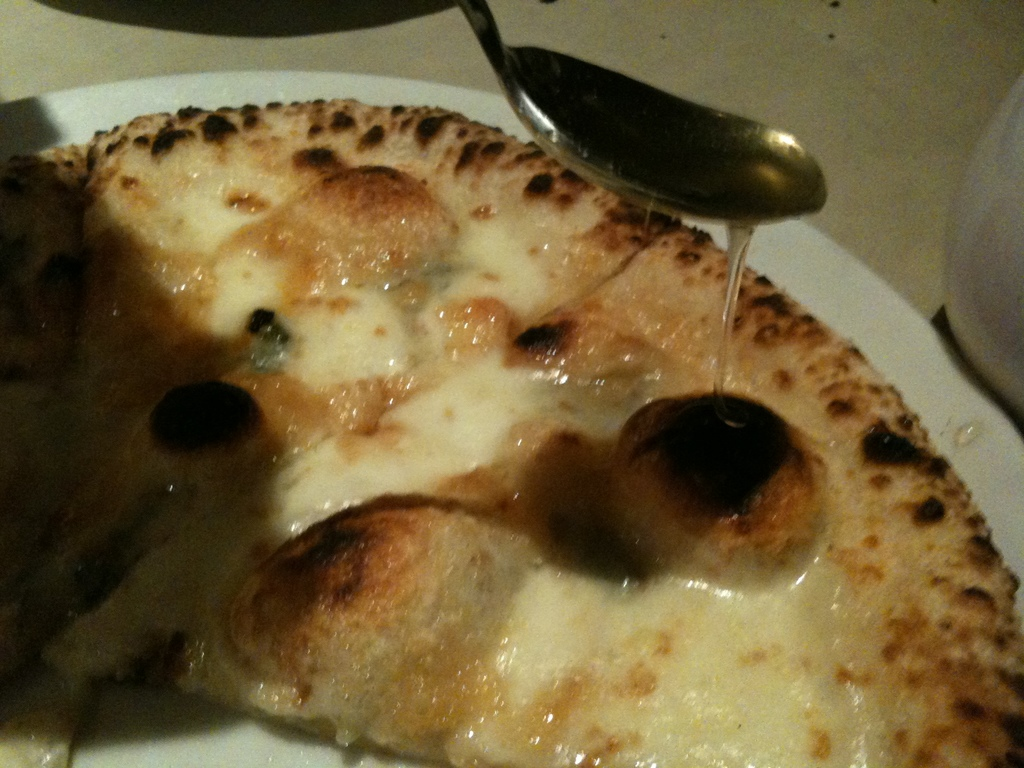pizza: (0, 96, 1023, 764)
